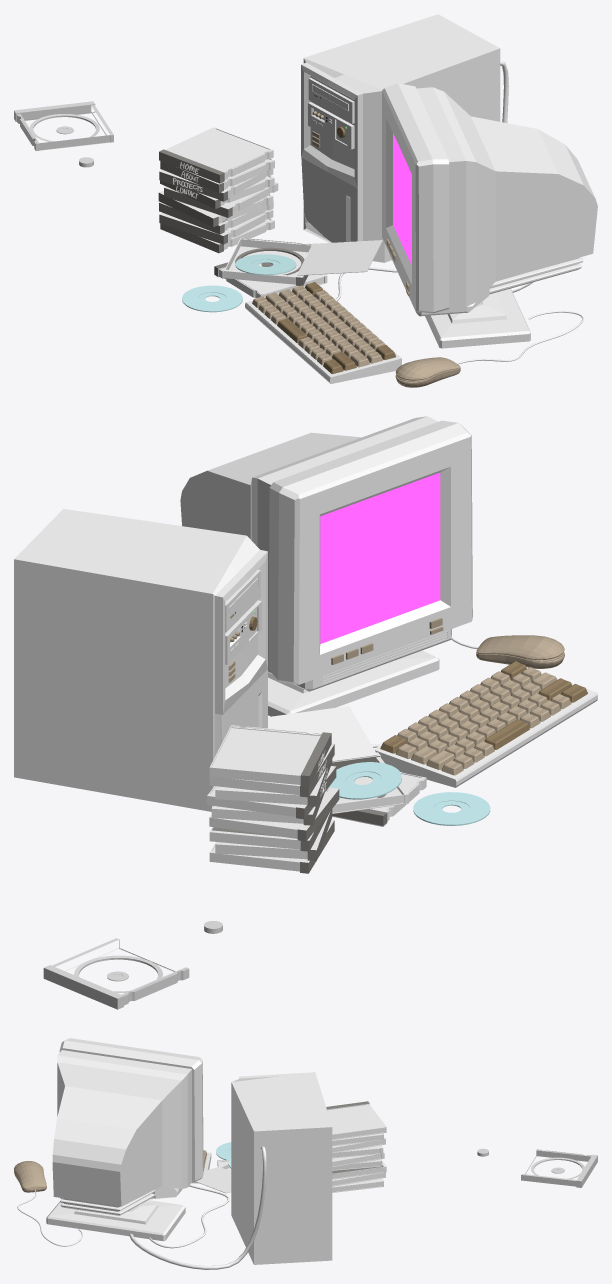
File: retro pc setupver2.glb
3 views of the same model, one above another, from view 1: azimuth 30°, elevation 25°; view 2: azimuth 150°, elevation 25°; view 3: azimuth 270°, elevation 25° (orthographic). The views are drawn at different scales.
Parts seen in each view (by area): view 1: Monitor, towerbase, med key.003, 1, home, Plane.007, Plane.006, Plane.005, plane base, mouse, Circle, space key (+5 smaller); view 2: towerbase, Monitor, med key.003, 1, home, Plane.007, plane base, Plane.005, mouse, Circle, Circle.004, space key (+5 smaller); view 3: Monitor, towerbase, 1, home, Plane.007, BezierCurve.002, mouse, Plane.005, BezierCurve.001, contact, about, projects.
Part boxes in pixels (x1,y1,x2,y2): Monitor: (382,83,597,348); towerbase: (301,14,500,262); med key.003: (252,285,384,367); 1: (158,182,278,253); home: (159,127,273,183); Plane.007: (14,101,113,150); Plane.006: (224,237,317,285); Plane.005: (297,240,382,275); plane base: (245,283,401,383); mouse: (395,357,460,387); Circle: (182,285,242,312); space key: (277,282,396,373); towerbase: (14,509,267,811); Monitor: (180,416,472,716); med key.003: (395,667,571,775); 1: (209,787,339,873); home: (209,725,331,786); Plane.007: (43,938,189,1009); plane base: (374,667,597,787); Plane.005: (268,706,377,761); mouse: (476,635,564,668); Circle: (413,792,490,825); Circle.004: (328,762,401,799); space key: (380,661,587,753); Monitor: (46,1038,203,1241); towerbase: (231,1072,332,1264); 1: (332,1152,386,1192); home: (326,1101,386,1139); Plane.007: (521,1149,597,1187); BezierCurve.002: (129,1146,266,1269); mouse: (14,1161,46,1192); Plane.005: (195,1167,231,1193); BezierCurve.001: (148,1185,229,1248); contact: (332,1145,383,1158); about: (332,1133,383,1146); projects: (332,1137,385,1153).
Size of what is drawn, in the model's own units: 4.65 by 2.57 by 8.87.
Materials: 13 (4 with a texture image).
